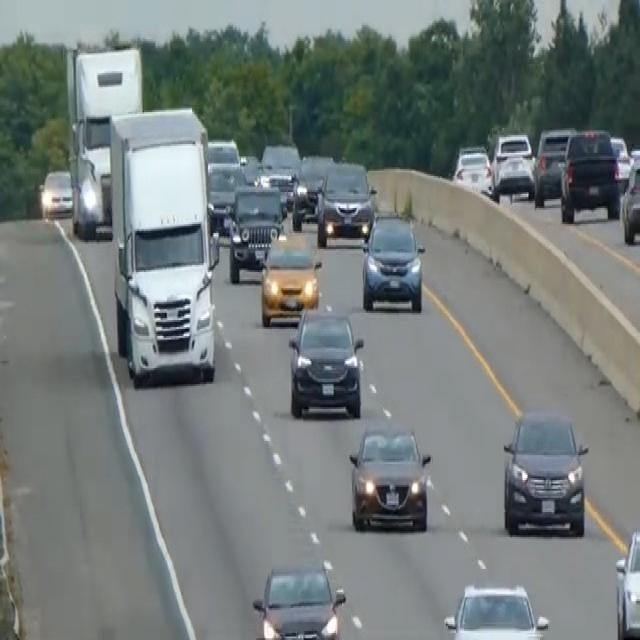car: (501, 405, 589, 537), (348, 419, 432, 532), (287, 304, 364, 420), (251, 560, 346, 638), (360, 208, 425, 313), (442, 580, 549, 638), (259, 231, 322, 327), (226, 181, 285, 283), (559, 126, 620, 222), (315, 158, 376, 245), (533, 125, 576, 206), (291, 151, 334, 229), (206, 158, 247, 235), (491, 128, 535, 199), (613, 526, 639, 638), (258, 140, 301, 207), (452, 142, 493, 196), (39, 167, 73, 219), (620, 153, 639, 245), (205, 135, 240, 169), (609, 134, 631, 188)
lorry: (108, 103, 219, 388)
